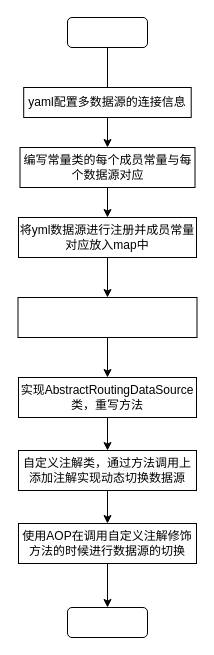
Image size: 214x655. Some labels were removed from this diagram. The box of each missing label's shape, as (x1, y1, x2, y2) in pixels:
将ThreadLocal的变量与当前数据源绑定: (17, 296, 197, 338)
开始: (66, 16, 148, 48)
结束: (66, 606, 148, 638)
